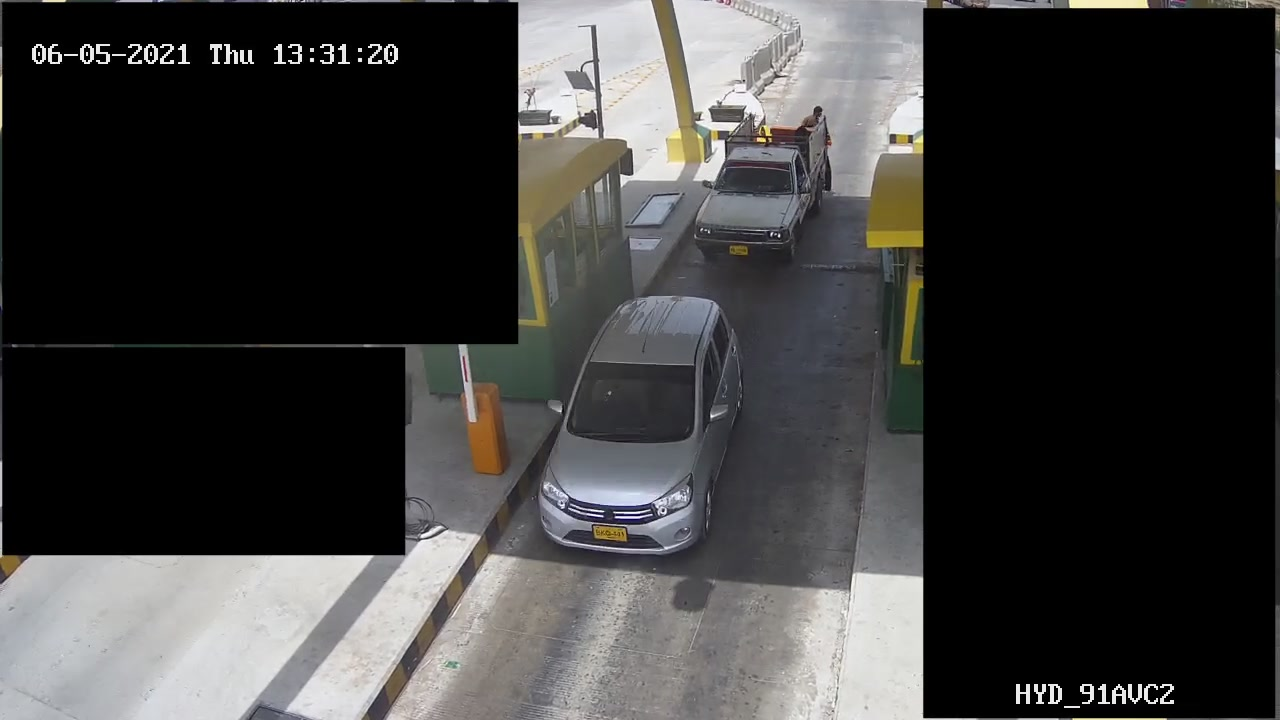F1: (528, 292, 757, 561), (690, 106, 839, 270)
